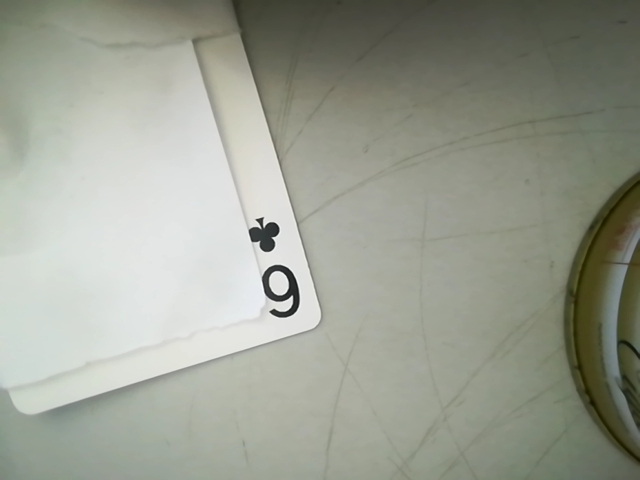mh 6: (241, 205, 312, 324)
